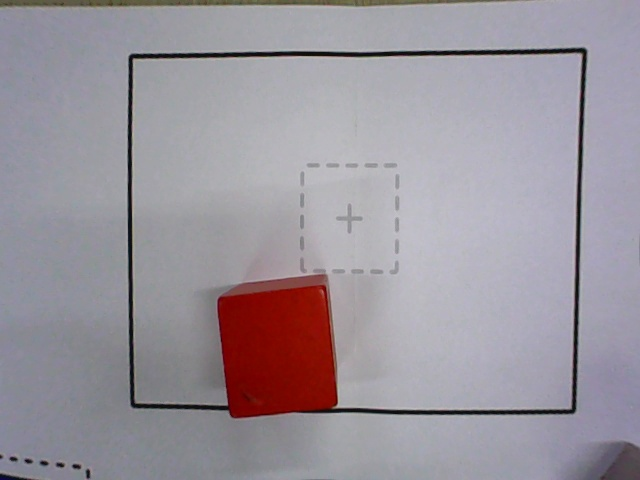upside of big cube: (216, 287, 338, 418)
